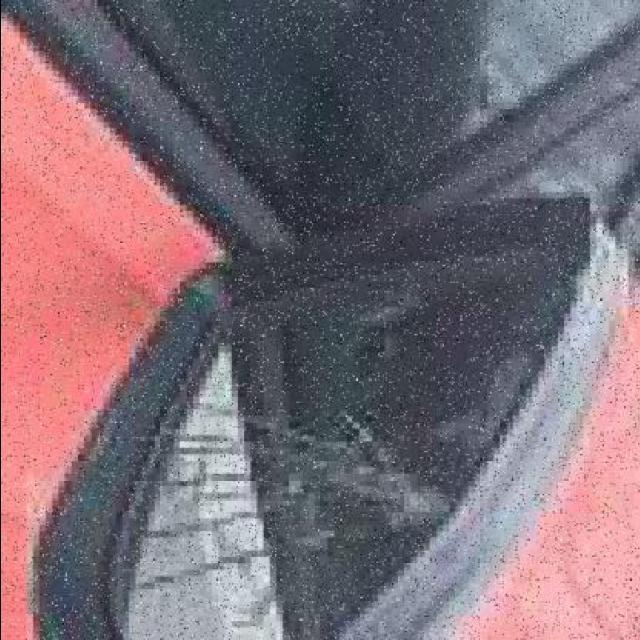Sidemirror-Damage: (57, 178, 640, 634)
